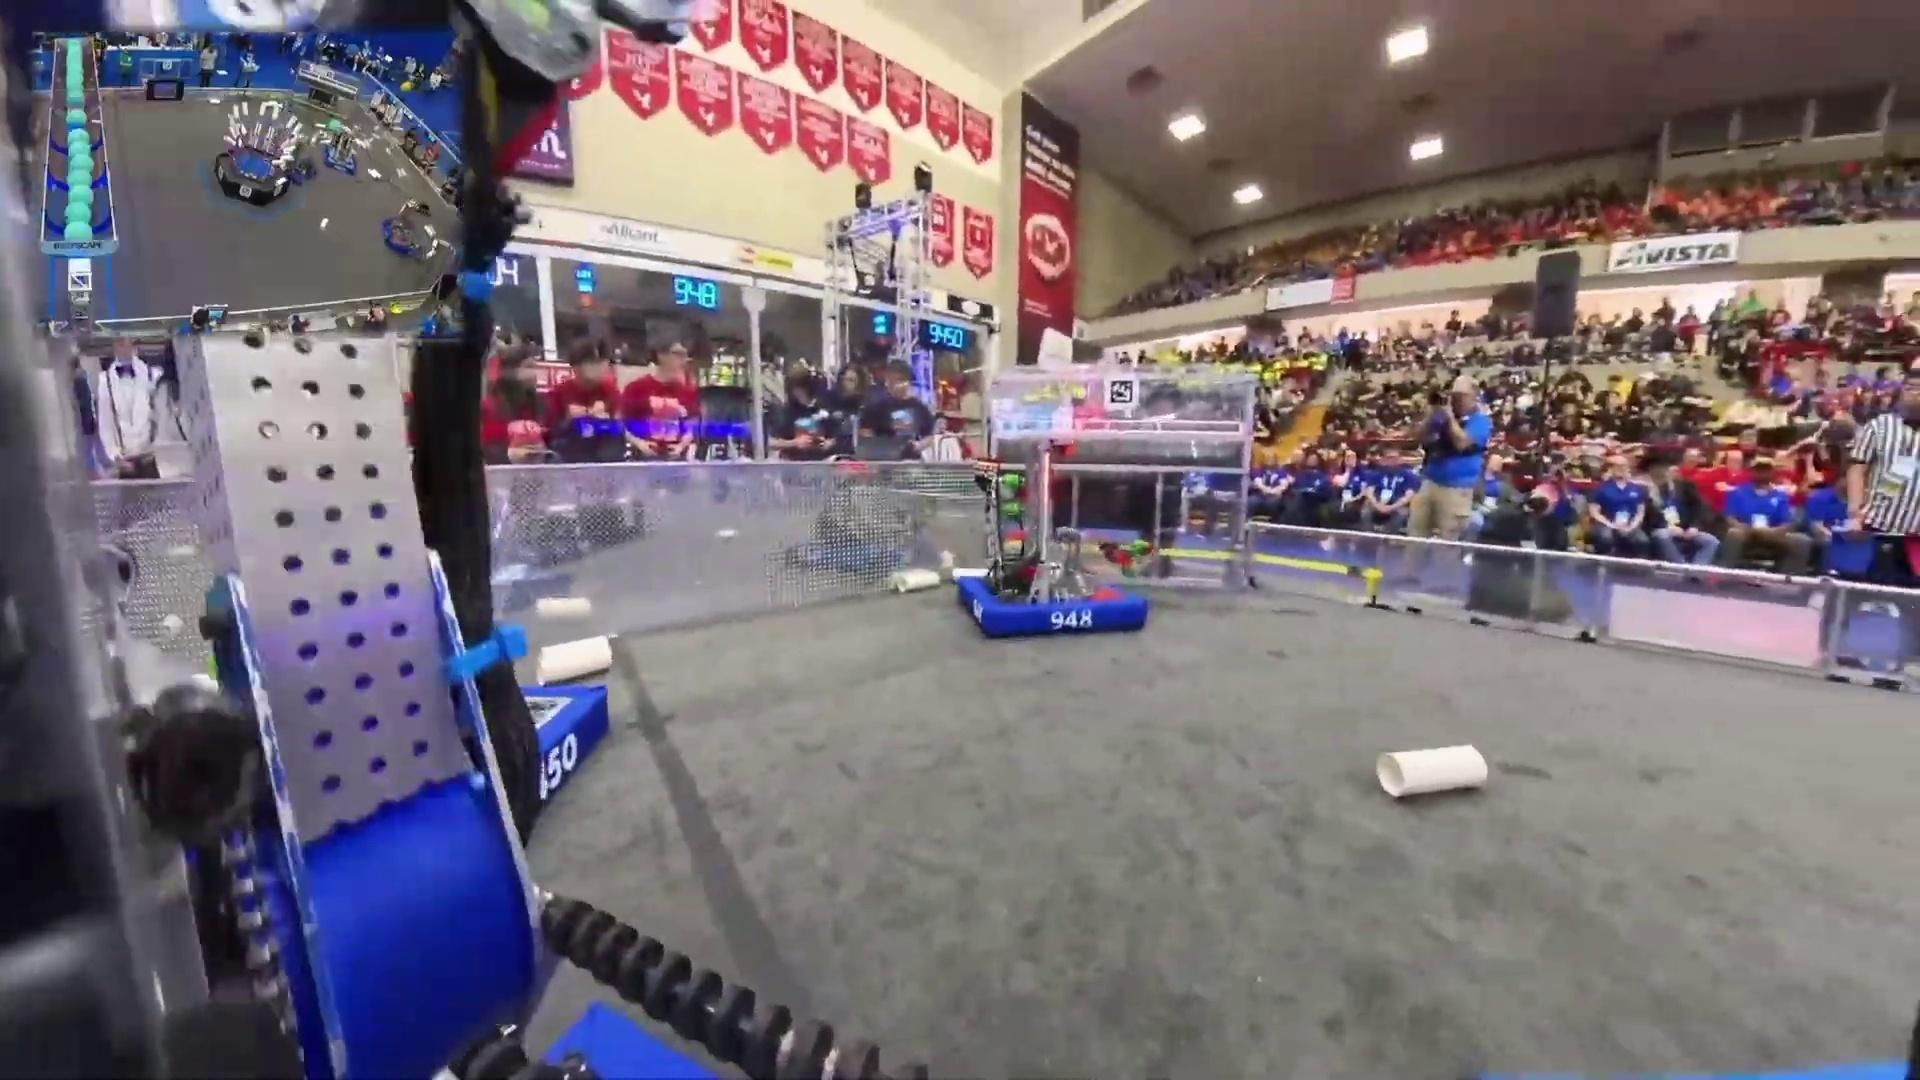robot: (953, 442, 1146, 640), (508, 682, 615, 831), (382, 194, 427, 265), (319, 119, 360, 178)
